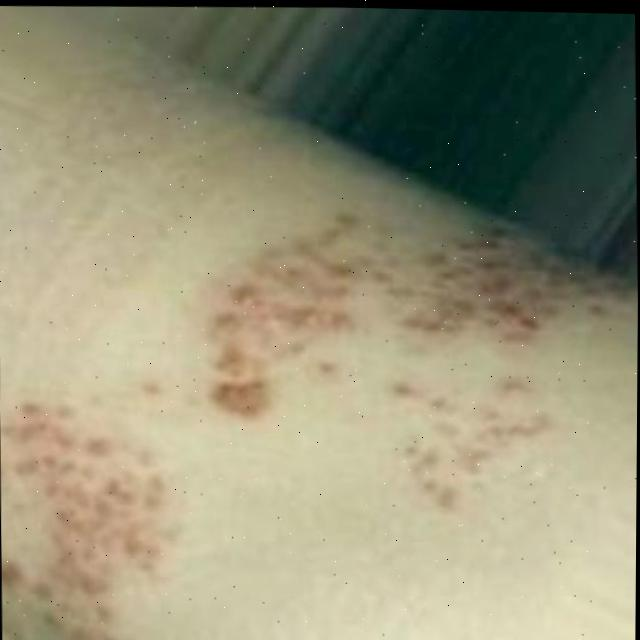Shingles: (209, 191, 622, 520), (0, 404, 171, 640)
